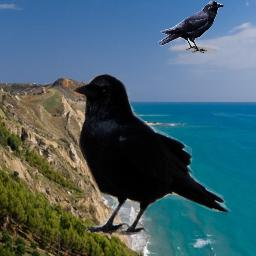Crow: (69, 72, 233, 237), (158, 1, 224, 53)
